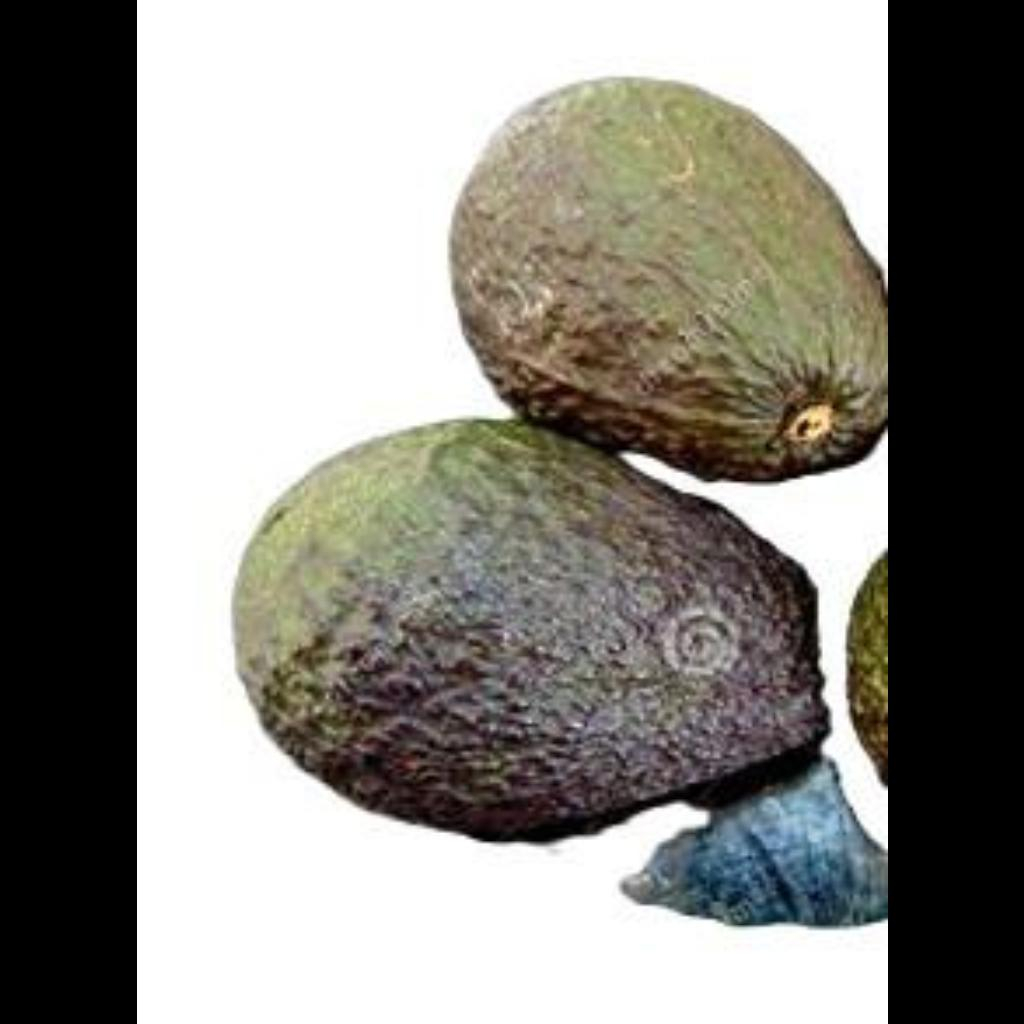Anthracnose: (258, 425, 852, 799), (436, 90, 888, 470)
